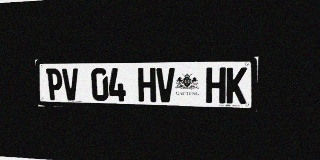0: (91, 68, 109, 101)
4: (108, 68, 126, 101)
H: (206, 67, 226, 103), (138, 68, 156, 102)
K: (226, 67, 247, 104)
P: (46, 68, 63, 100)
V: (156, 68, 175, 102), (62, 68, 79, 101)
